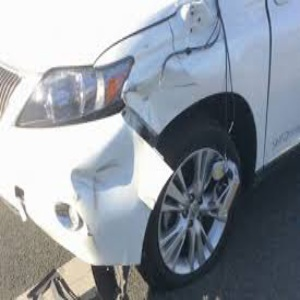bumper: (66, 118, 170, 269)
